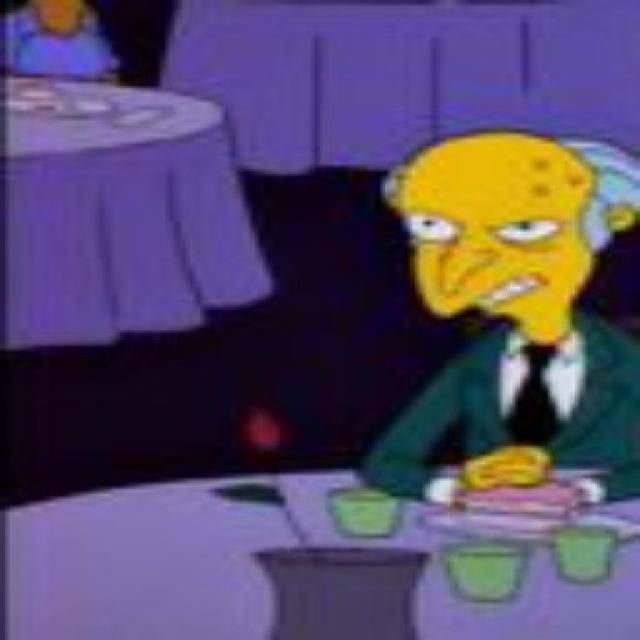Charles Montgomery Burns: (386, 131, 639, 347)
